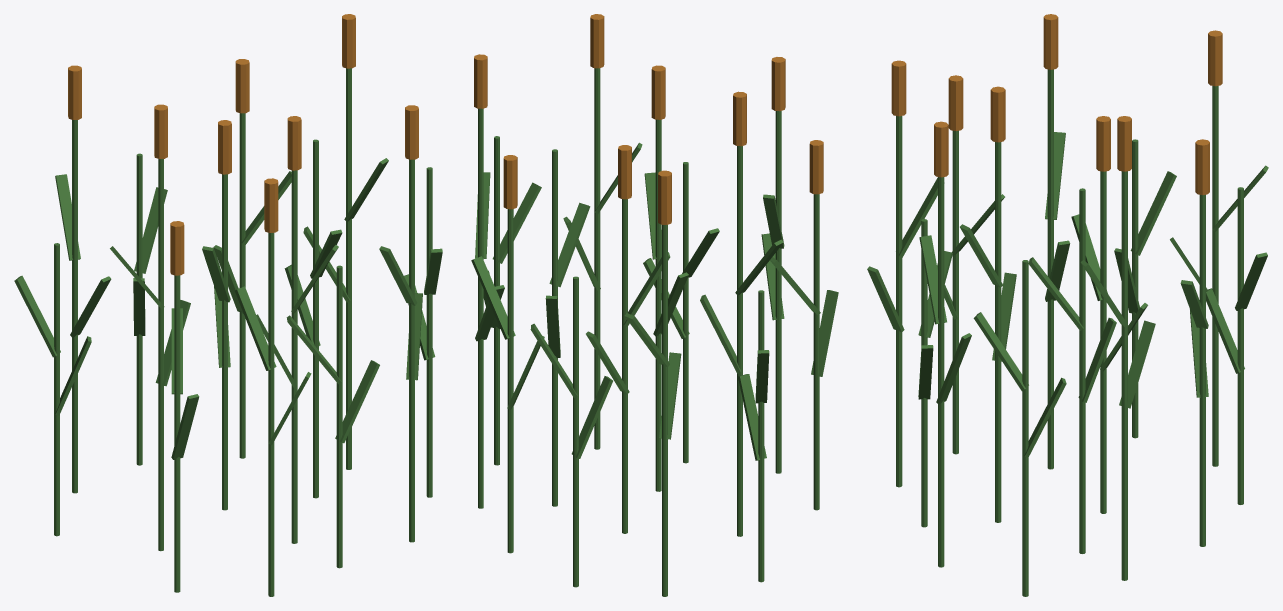
File: canal_reed.glb
3 views of the same model, side by side, from view 1: azimuth 30°, elevation 25°; view 2: azimuth 150°, elevation 25°; view 3: azimuth 270°, elevation 25° (orthographic). The views are drawn at different scales.
Parts seen in each view (by area): view 1: CanalReed; view 2: CanalReed; view 3: CanalReed.
Part boxes in pixels (x1,y1,x2,y2): CanalReed: (14, 14, 442, 596); CanalReed: (471, 14, 838, 596); CanalReed: (867, 14, 1268, 596).
Bounding box in the file's own units: 0.195 × 0.241 × 0.1905.
